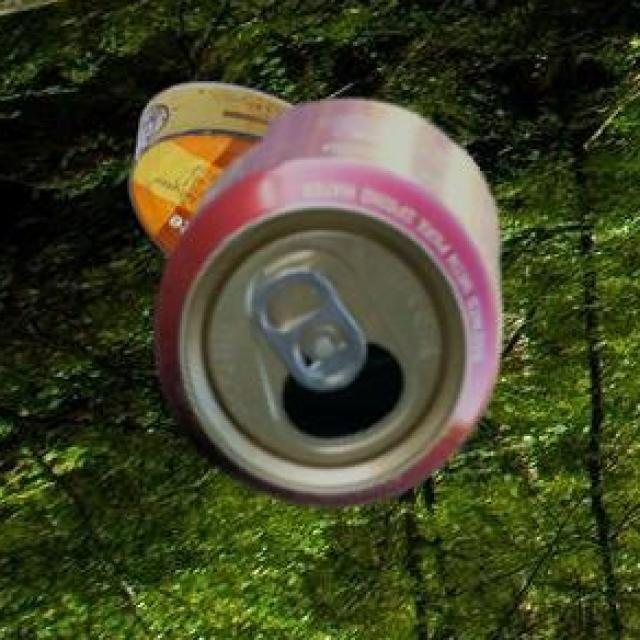logam: (157, 102, 505, 510), (133, 87, 299, 262)
